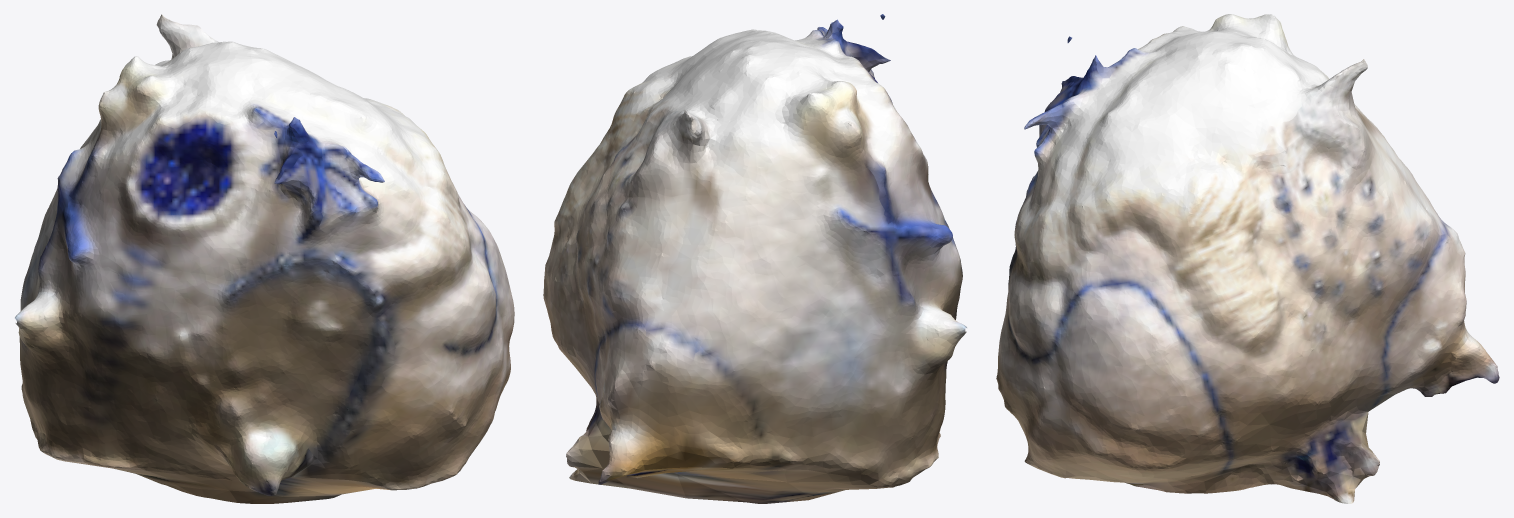
File: HYPERLINK.glb
3 renders of one model, left to right at view 1: azimuth 30°, elevation 25°; view 2: azimuth 150°, elevation 25°; view 3: azimuth 270°, elevation 25°, orthographic. The views are drawn at different scales.
Visible parts, largest first — view 1: mesh; view 2: mesh; view 3: mesh.
Boxes of the visible parts, x1,y1,x2,y2 form: mesh: [15, 14, 514, 503]; mesh: [543, 14, 966, 503]; mesh: [996, 14, 1499, 503].
Bounding box in the file's own units: 0.0706 × 0.0642 × 0.0733.
1 material, 1 textured.
